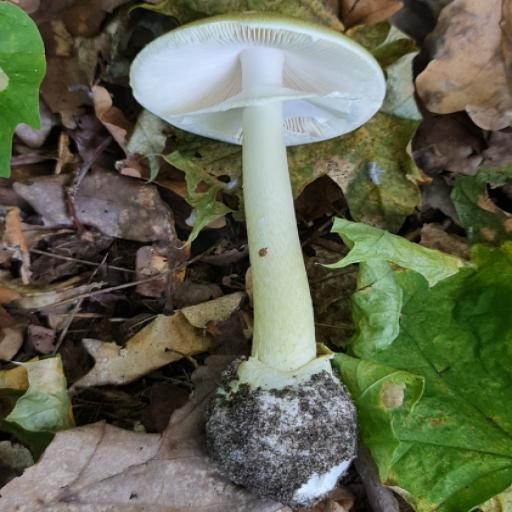mushroom: (131, 13, 385, 146), (227, 101, 318, 375)
